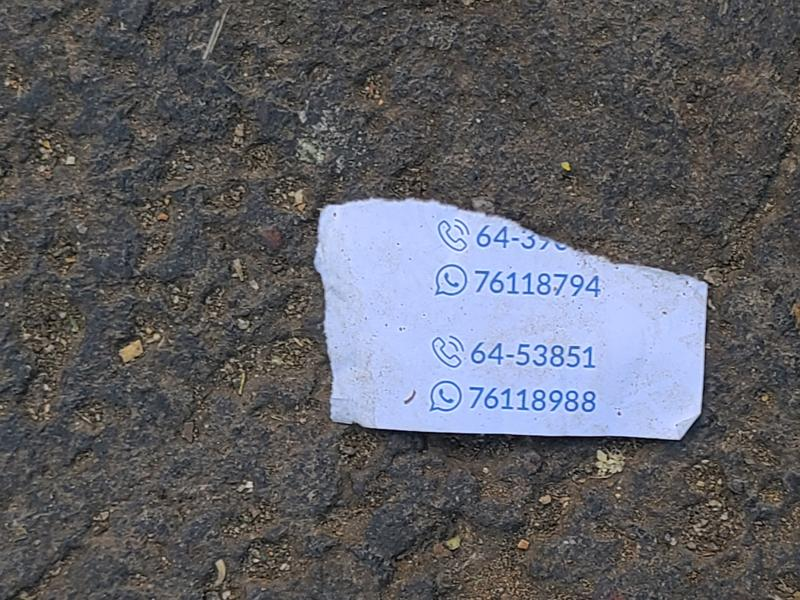papel: (312, 200, 710, 444)
